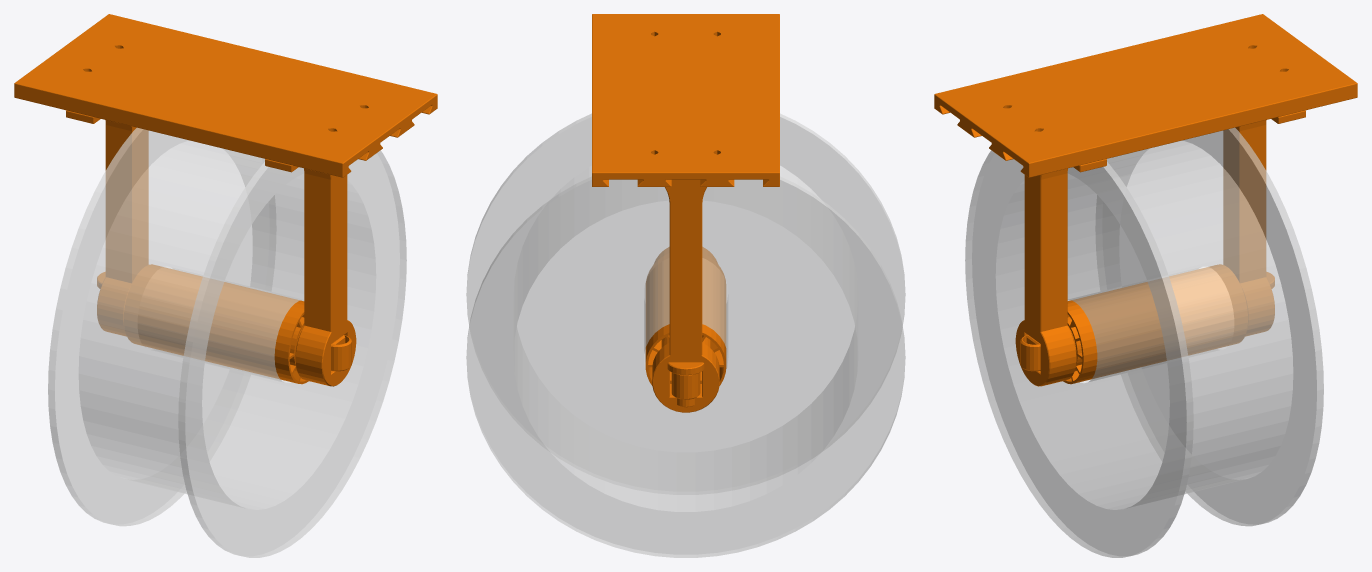
Rendered from SpoolHanger.glb.
The picture shows the model from 3 angles, left to right: view 1: azimuth 30°, elevation 25°; view 2: azimuth 150°, elevation 25°; view 3: azimuth 270°, elevation 25°; orthographic projection.
Parts seen in each view (by area): view 1: Spool; view 2: Spool; view 3: Spool.
Part boxes in pixels (x1,y1,x2,y2): Spool: [14, 14, 437, 557]; Spool: [466, 14, 905, 557]; Spool: [934, 14, 1357, 557].
Size of the model in its own units: 292 by 304 by 267.
